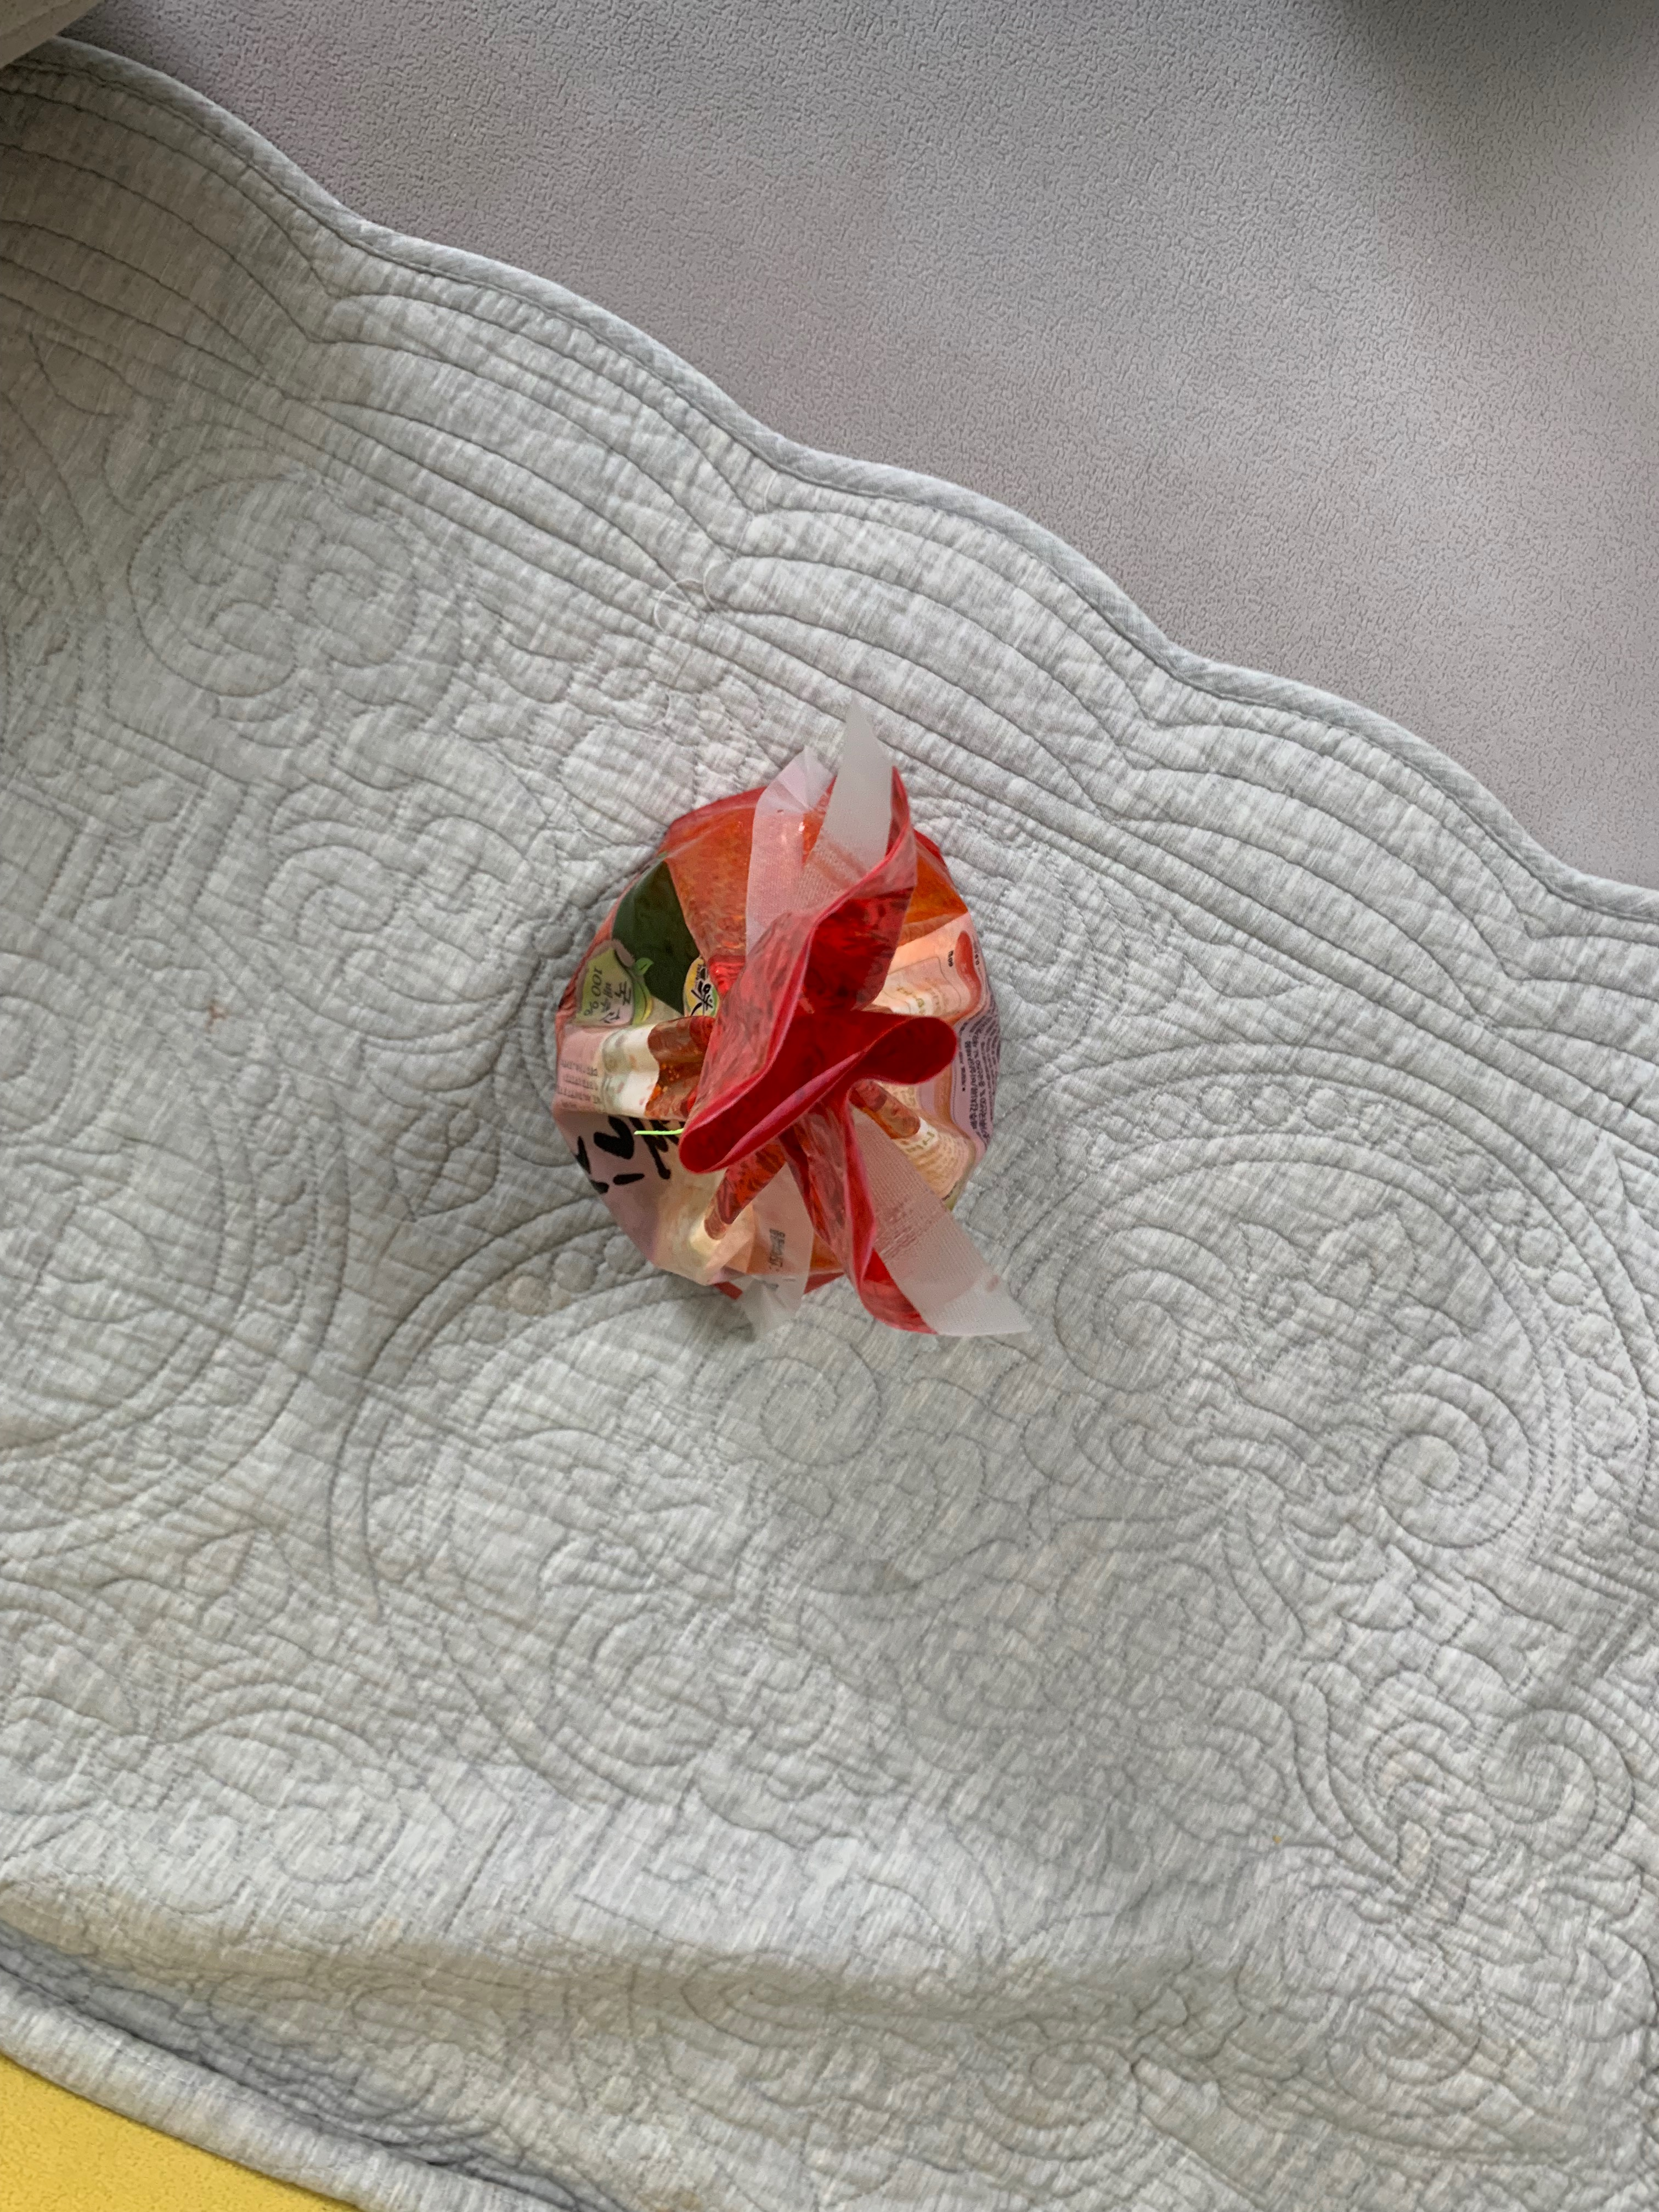kimchi: (563, 791, 1000, 1296)
